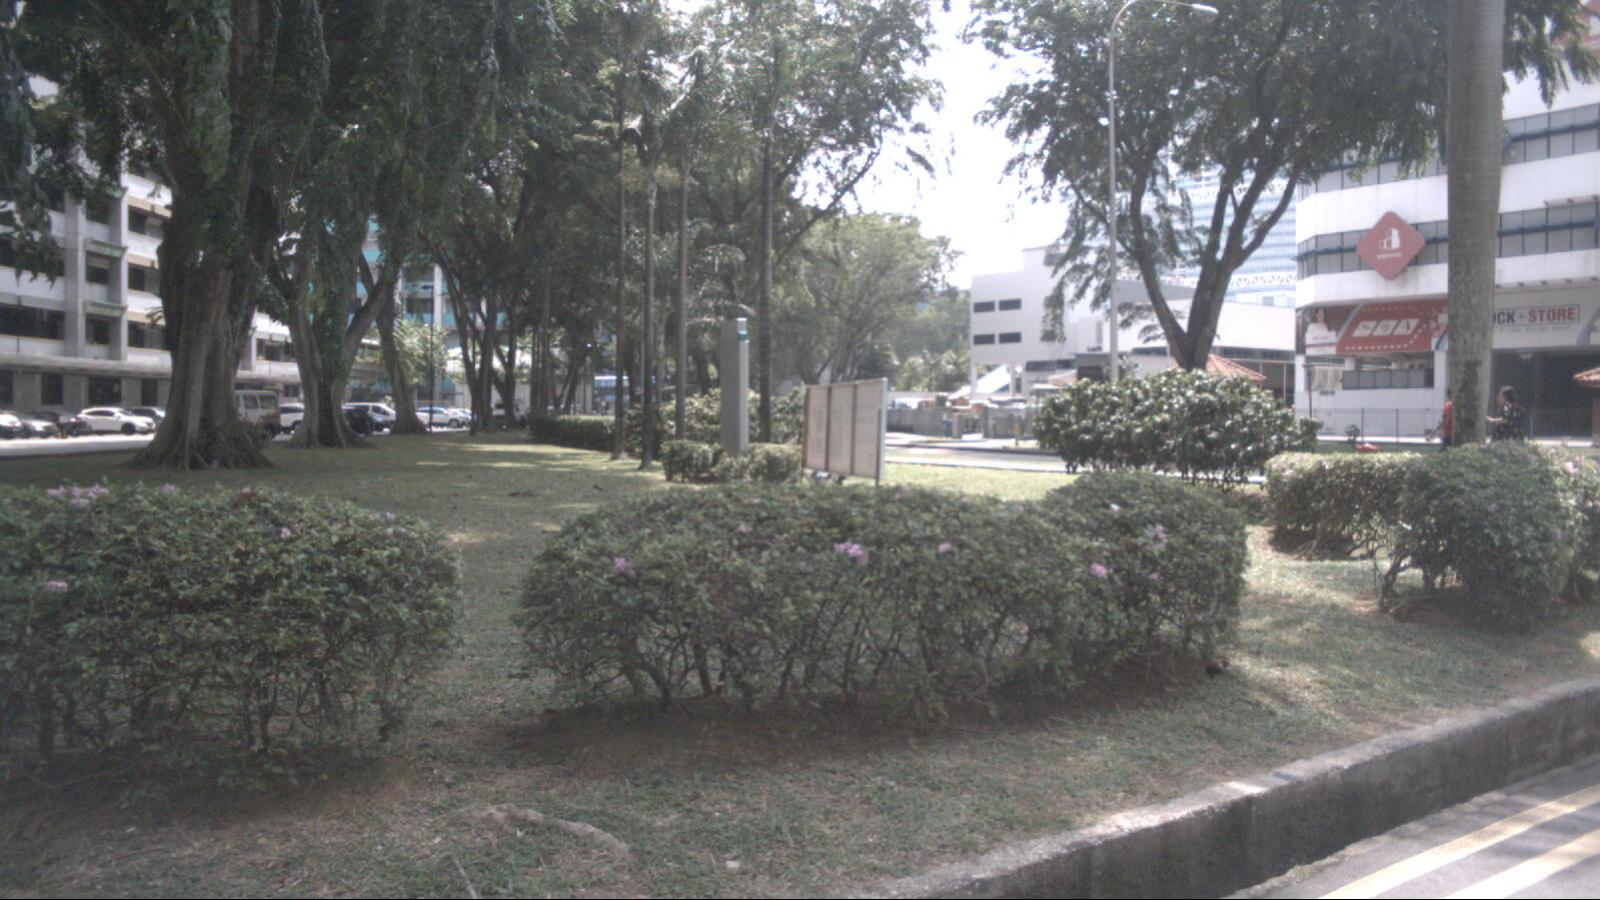human.pedestrian.adult-pedestrian.moving: (1425, 385, 1470, 489), (1482, 386, 1525, 491)
